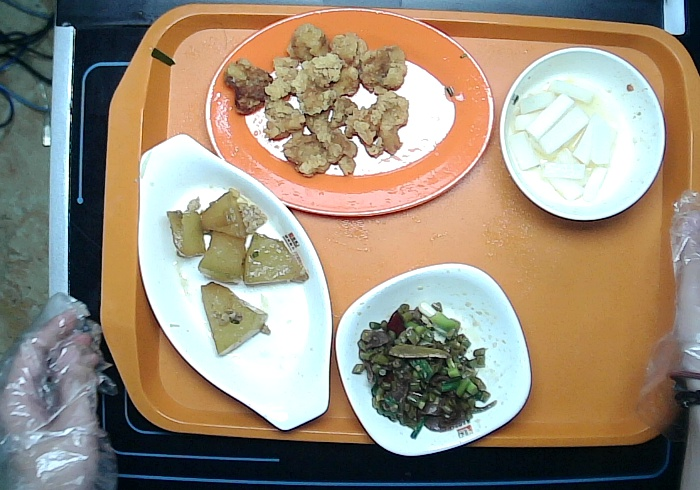NLDX-Bai_Se_Xiao_Fang_Die: (334, 261, 533, 457)
NLDX-Fan_Wan: (498, 45, 667, 222)
NLDX-Ju_Se_Pan: (203, 5, 496, 218)
NLDX-Yu_Pan: (136, 131, 334, 432)
